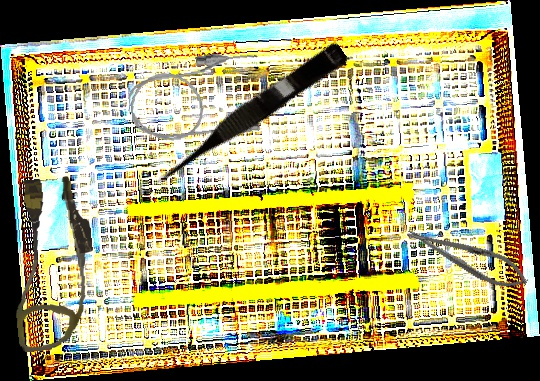Cannula: (2, 174, 103, 353), (124, 48, 268, 148)
Micro Scissor: (146, 37, 350, 192)
Needle Holder: (401, 217, 534, 297)
